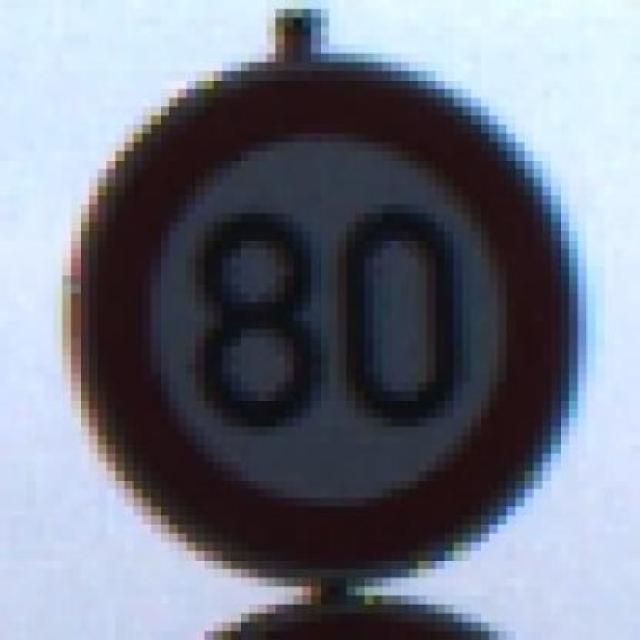forb_speed_over_80: (88, 60, 574, 583)
